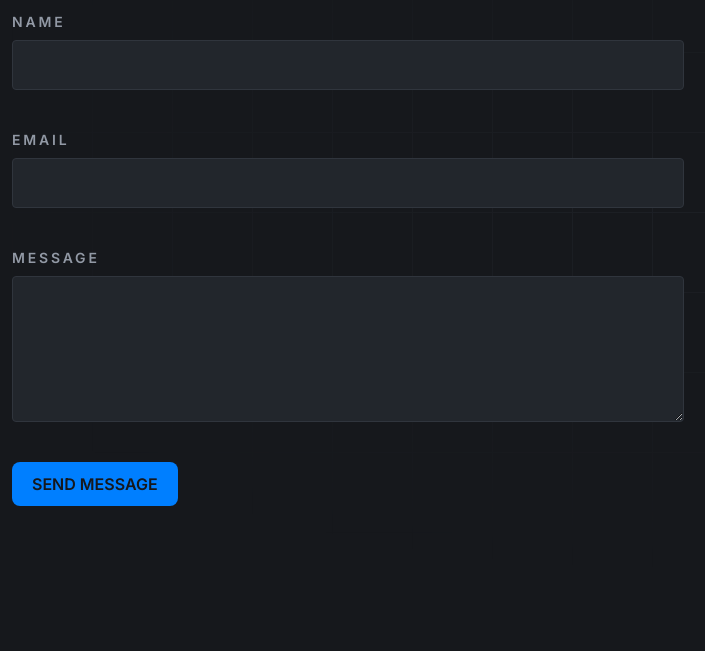
it: ContactForm › si la red falla ofrece el camino alternativo en vez de un error seco
Type "Ana" into the field labelled "Name" at (348,65), box top-left (12, 40), bottom-right (684, 90)
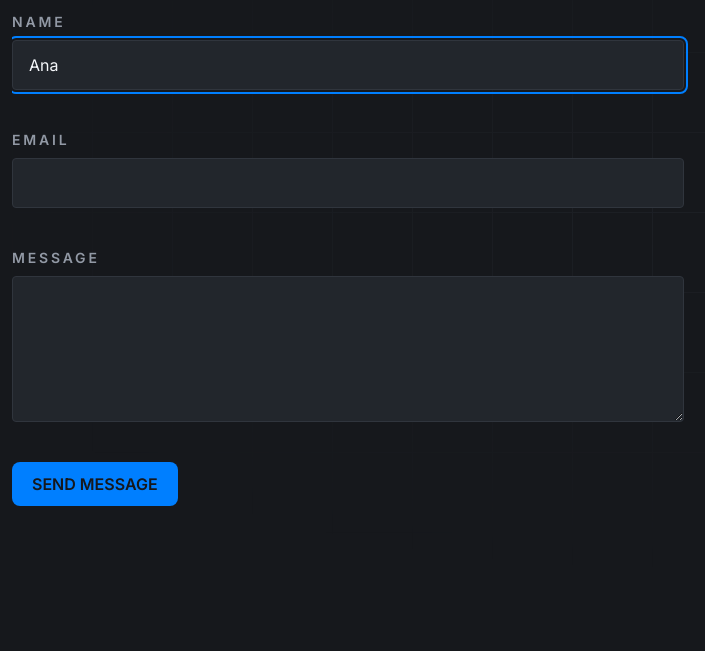
Type "ana@ejemplo.com" into the field labelled "Email" at (348,183), box top-left (12, 158), bottom-right (684, 208)
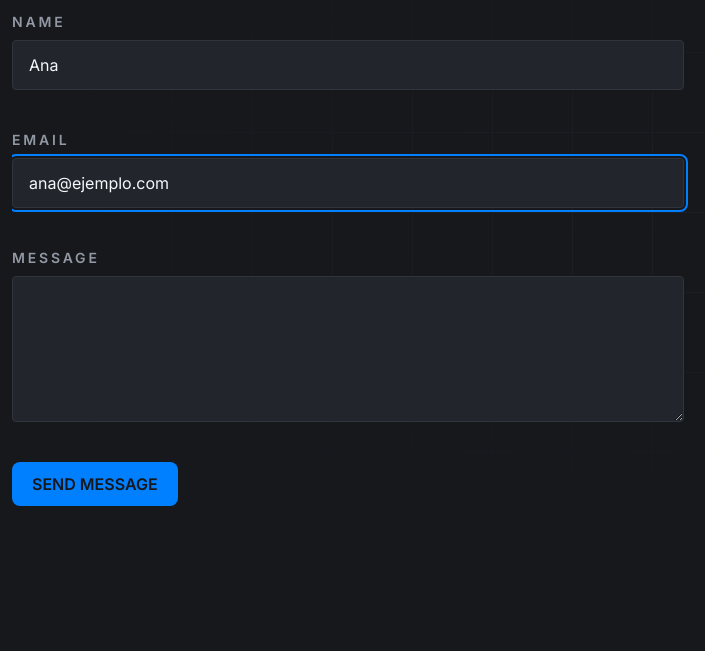
Type "Hola" into the text box labelled "Message" at (348,349), box top-left (12, 276), bottom-right (684, 422)
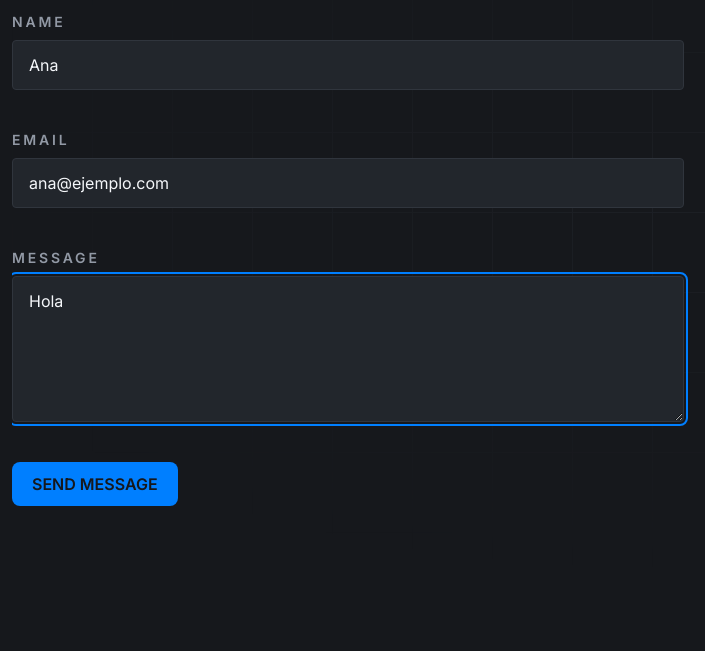
Click the button "SEND MESSAGE" at (95,484), box top-left (12, 462), bottom-right (178, 506)
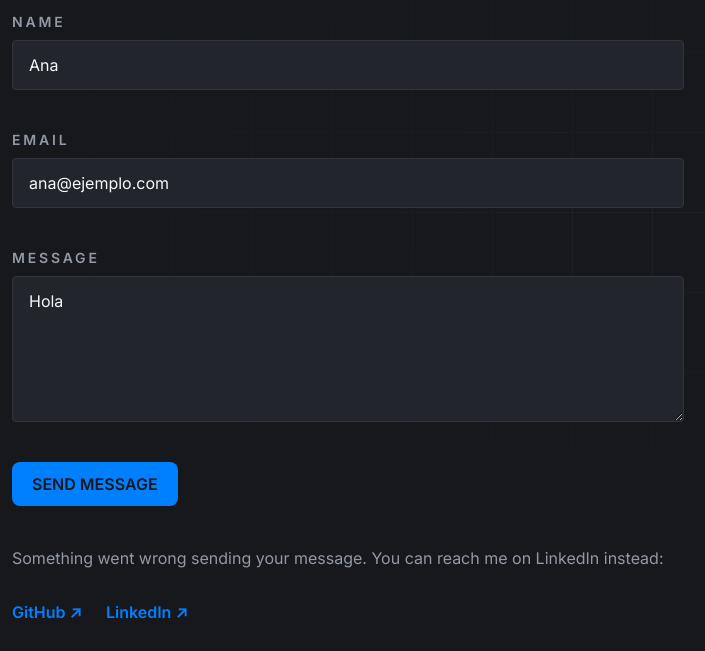
Check: the text "Something went wrong sending your message. You can reach me on LinkedIn instead:" is shown, box top-left (12, 546), bottom-right (684, 570)
Check: the link "LinkedIn ↗" is shown, box top-left (106, 590), bottom-right (188, 634)
